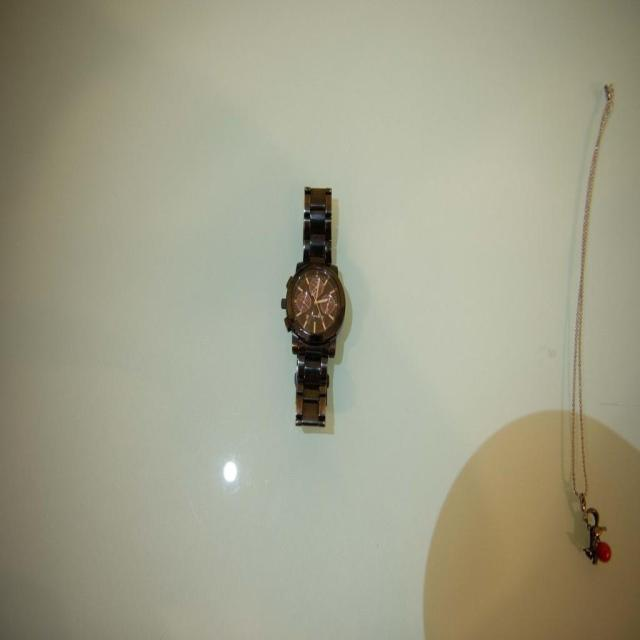Wrist watch: (281, 186, 345, 428)
